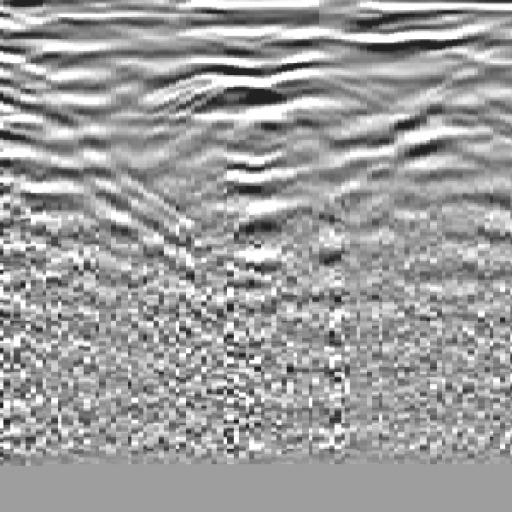metalic: (132, 36, 349, 271)
